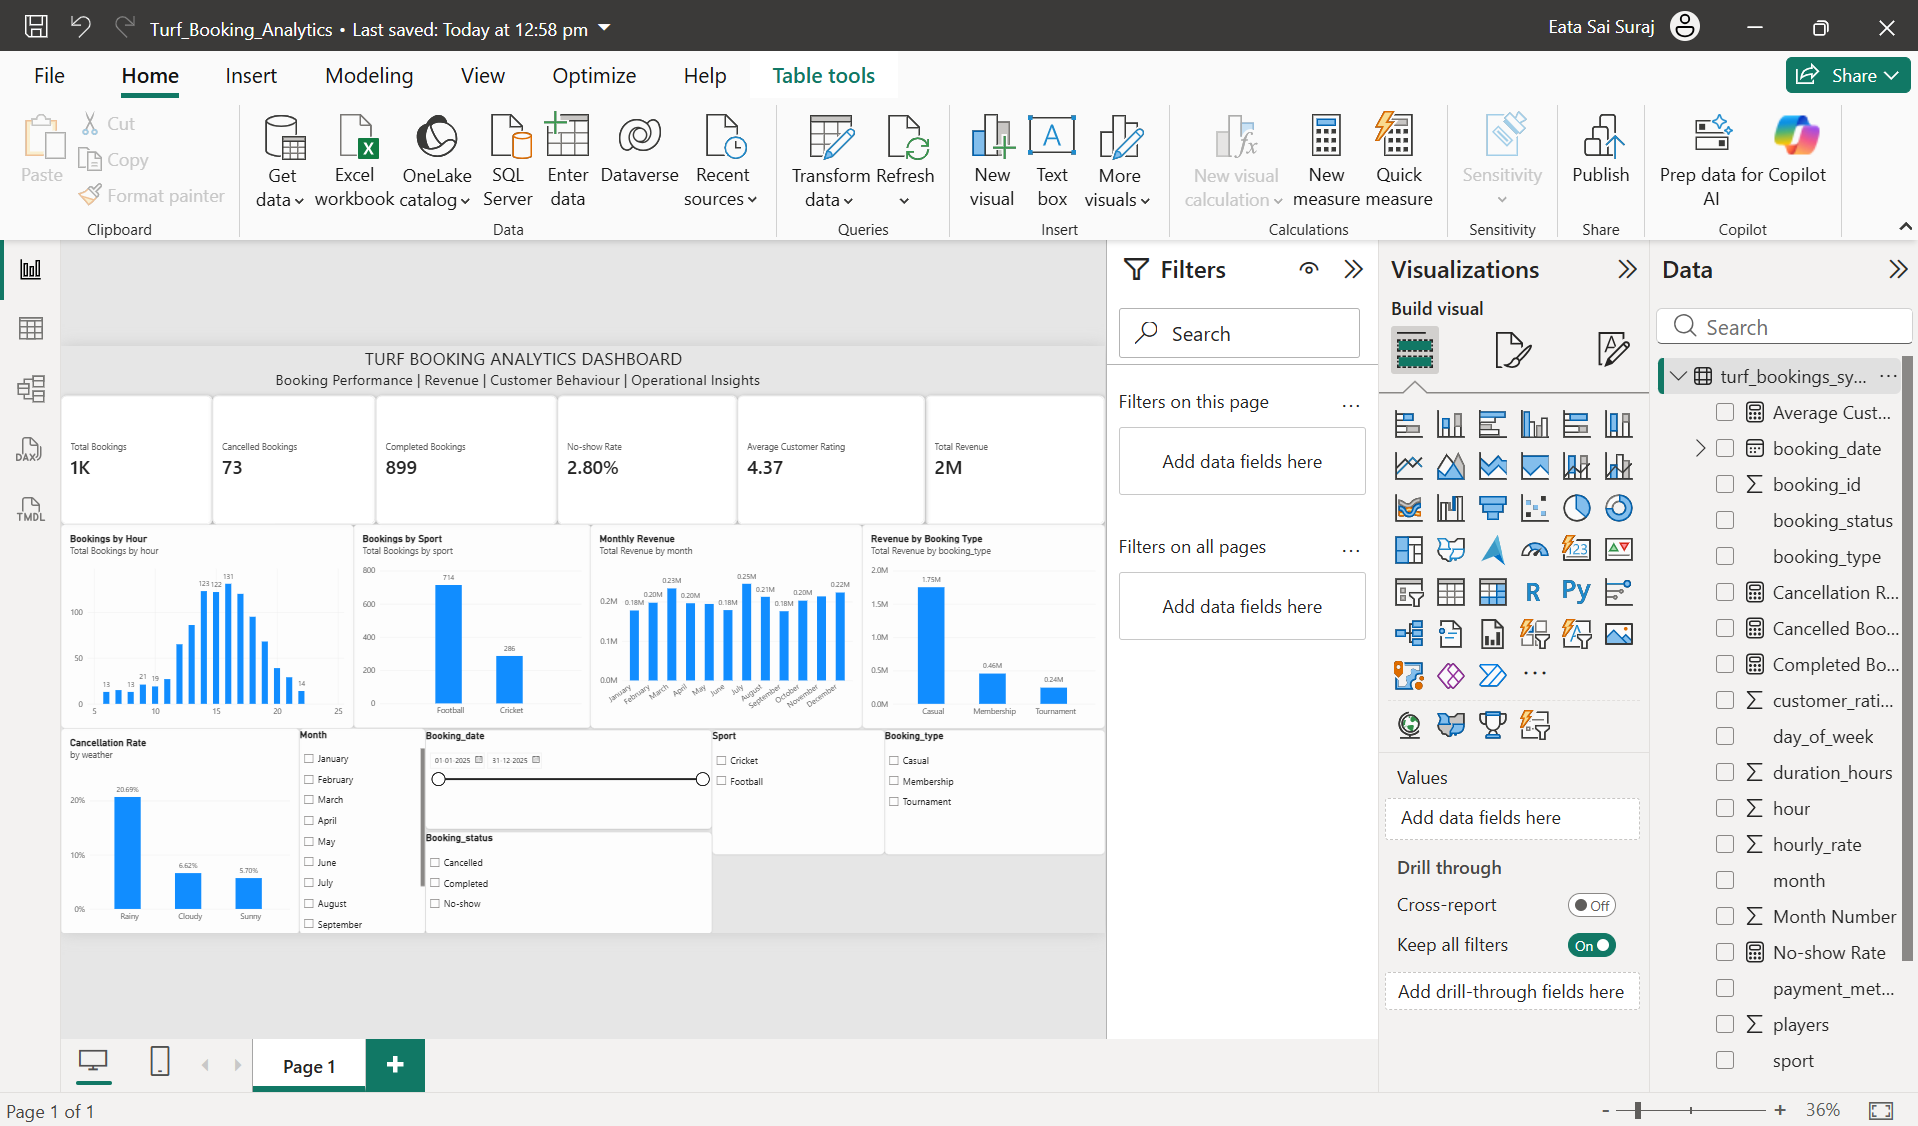

The dashboard page shown, as its layout file describes it:
{"tool":"powerbi","page":{"name":"Page 1","canvas":[1920,1080],"ordinal":0},"visuals":[{"type":"cardVisual","fields":{"Data":["turf_bookings_synthetic.Total Bookings"]},"box":[0,91,278.5,237.1],"z":0},{"type":"cardVisual","fields":{"Data":["turf_bookings_synthetic.Total Revenue"]},"box":[1588.2,91,330.9,237.1],"z":1000},{"type":"cardVisual","fields":{"Data":["turf_bookings_synthetic.Cancelled Bookings"]},"box":[278.5,91,300.5,237.1],"z":2000},{"type":"cardVisual","fields":{"Data":["turf_bookings_synthetic.Completed Bookings"]},"box":[579,91,333.6,237.1],"z":3000},{"type":"cardVisual","fields":{"Data":["turf_bookings_synthetic.No-show Rate"]},"box":[912.7,91,330.9,237.1],"z":4000},{"type":"cardVisual","fields":{"Data":["turf_bookings_synthetic.Average Customer Rating"]},"box":[1243.6,91,344.7,237.1],"z":5000},{"type":"clusteredColumnChart","title":"Bookings by Sport ","fields":{"Category":["turf_bookings_synthetic.sport"],"Y":["turf_bookings_synthetic.Total Bookings"]},"box":[537.7,328.1,436.5,374.2],"z":6000},{"type":"clusteredColumnChart","title":"Revenue by Booking Type","fields":{"Category":["turf_bookings_synthetic.booking_type"],"Y":["turf_bookings_synthetic.Total Revenue"]},"box":[1472.4,328.1,446.7,375],"z":7000},{"type":"clusteredColumnChart","title":"Monthly Revenue","fields":{"Category":["turf_bookings_synthetic.month"],"Y":["turf_bookings_synthetic.Total Revenue"]},"box":[973.3,328.1,499.1,375],"z":8000},{"type":"clusteredColumnChart","title":"Bookings by Hour","fields":{"Category":["turf_bookings_synthetic.hour"],"Y":["turf_bookings_synthetic.Total Bookings"]},"box":[0,328.1,537.7,375],"z":9000},{"type":"clusteredColumnChart","fields":{"Category":["turf_bookings_synthetic.weather"],"Y":["turf_bookings_synthetic.Cancellation Rate"]},"box":[0,703.1,438.4,377],"z":10000},{"type":"textbox","box":[394.3,0,921.1,147.4],"z":16000},{"type":"slicer","title":"  Booking_date","fields":{"Values":["turf_bookings_synthetic.booking_date"]},"box":[670,705.9,526.6,182],"z":16001},{"type":"slicer","title":"Booking_type","fields":{"Values":["turf_bookings_synthetic.booking_type"]},"box":[1513.8,705.9,405.3,228.9],"z":16002},{"type":"slicer","title":"Sport","fields":{"Values":["turf_bookings_synthetic.sport"]},"box":[1196.7,705.9,317.1,228.9],"z":16003},{"type":"slicer","title":"Booking_status","fields":{"Values":["turf_bookings_synthetic.booking_status"]},"box":[670,893.4,526.6,187.5],"z":16004},{"type":"slicer","title":"Month","fields":{"Values":["turf_bookings_synthetic.month"]},"box":[438.4,703.1,231.6,377.8],"z":16005}]}

Visuals, with their boxes on the page's 1920x1080 design canvas (x1, y1, x2, y2). These are canvas units, not pixel positions in the 1918x1126 screenshot, which may show the page scaled, cropped or inside an application window:
cardVisual - turf_bookings_synthetic.Total Bookings: x1=0 y1=91 x2=278 y2=328
cardVisual - turf_bookings_synthetic.Total Revenue: x1=1588 y1=91 x2=1919 y2=328
cardVisual - turf_bookings_synthetic.Cancelled Bookings: x1=278 y1=91 x2=579 y2=328
cardVisual - turf_bookings_synthetic.Completed Bookings: x1=579 y1=91 x2=913 y2=328
cardVisual - turf_bookings_synthetic.No-show Rate: x1=913 y1=91 x2=1244 y2=328
cardVisual - turf_bookings_synthetic.Average Customer Rating: x1=1244 y1=91 x2=1588 y2=328
"Bookings by Sport " clusteredColumnChart: x1=538 y1=328 x2=974 y2=702
"Revenue by Booking Type" clusteredColumnChart: x1=1472 y1=328 x2=1919 y2=703
"Monthly Revenue" clusteredColumnChart: x1=973 y1=328 x2=1472 y2=703
"Bookings by Hour" clusteredColumnChart: x1=0 y1=328 x2=538 y2=703
clusteredColumnChart - turf_bookings_synthetic.weather x turf_bookings_synthetic.Cancellation Rate: x1=0 y1=703 x2=438 y2=1080
textbox: x1=394 y1=0 x2=1315 y2=147
"  Booking_date" slicer: x1=670 y1=706 x2=1197 y2=888
"Booking_type" slicer: x1=1514 y1=706 x2=1919 y2=935
"Sport" slicer: x1=1197 y1=706 x2=1514 y2=935
"Booking_status" slicer: x1=670 y1=893 x2=1197 y2=1081
"Month" slicer: x1=438 y1=703 x2=670 y2=1081
